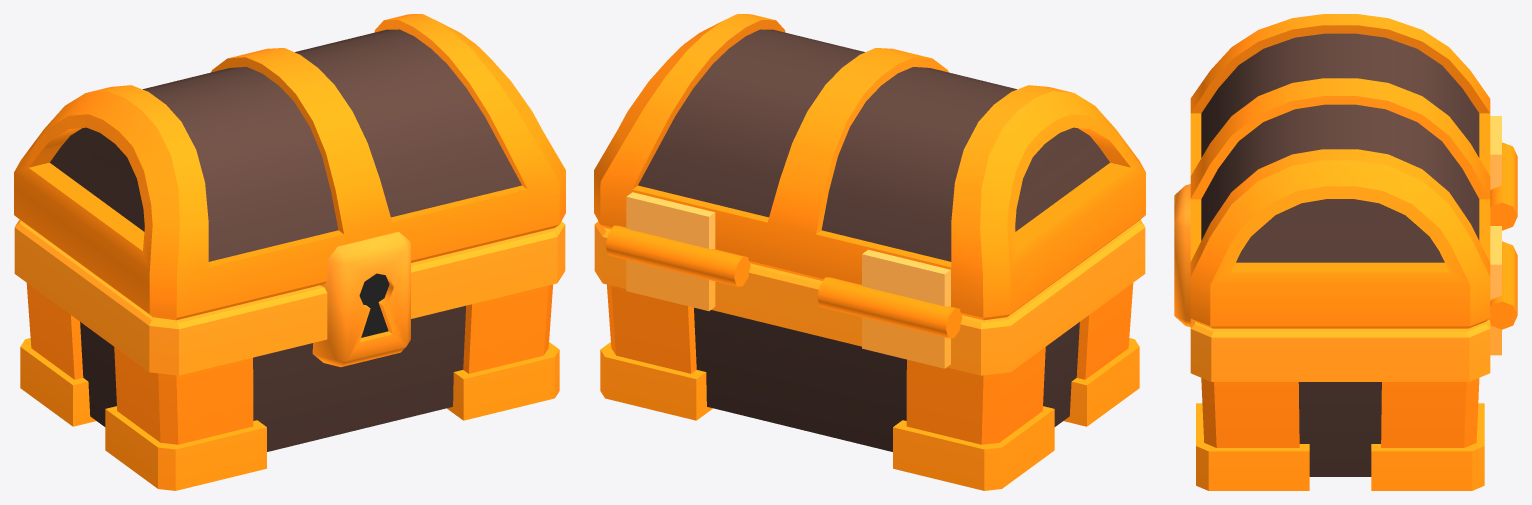
The model's file is chest_001.glb.
3 views of the same model, side by side, from view 1: azimuth 30°, elevation 25°; view 2: azimuth 150°, elevation 25°; view 3: azimuth 270°, elevation 25° (orthographic). The views are drawn at different scales.
Visible parts, largest first — view 1: chest_lid_001, chest_001; view 2: chest_lid_001, chest_001; view 3: chest_lid_001, chest_001.
Boxes of the visible parts, left/top/right/bottom form: chest_lid_001: left=14, top=14, right=565, bottom=320; chest_001: left=14, top=220, right=565, bottom=490; chest_lid_001: left=594, top=14, right=1145, bottom=320; chest_001: left=594, top=220, right=1145, bottom=490; chest_lid_001: left=1190, top=14, right=1501, bottom=328; chest_001: left=1174, top=142, right=1517, bottom=490.
Size of the model in its own units: 1.74 by 1.29 by 1.3.
Materials: 3 (3 with a texture image).
